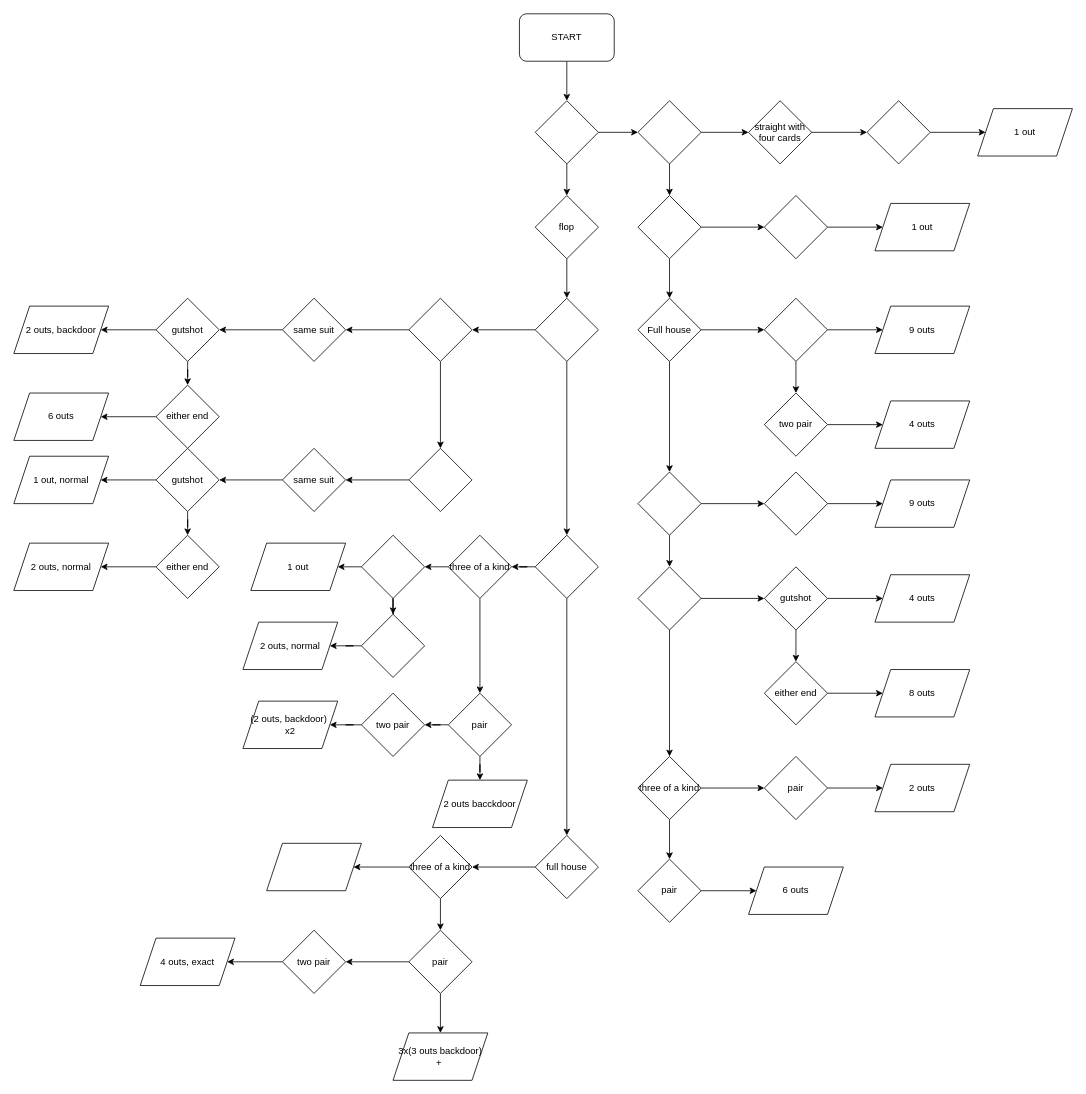
Some shapes in this 1086 by 1094 pixel diagram are drawn without their labels. Each missing label, with the box of its shape:
3 card straight: (408, 297, 472, 361)
3 outs, normal: (266, 843, 361, 891)
4 card straight: (408, 448, 472, 512)
4 same suits?: (764, 471, 828, 535)
Flush: (637, 471, 701, 535)
four of a kind: (534, 534, 598, 598)
Four of a kind?: (637, 195, 701, 259)
has three of a kind?: (764, 195, 828, 259)
one TOAK: (361, 534, 425, 598)
same suit?: (866, 100, 930, 164)
straight: (637, 566, 701, 630)
straight flush: (534, 297, 598, 361)
Straight flush?: (637, 100, 701, 164)
Three of a kind?: (764, 297, 828, 361)
Turn?: (534, 100, 598, 164)
two TOAK: (361, 613, 425, 677)
